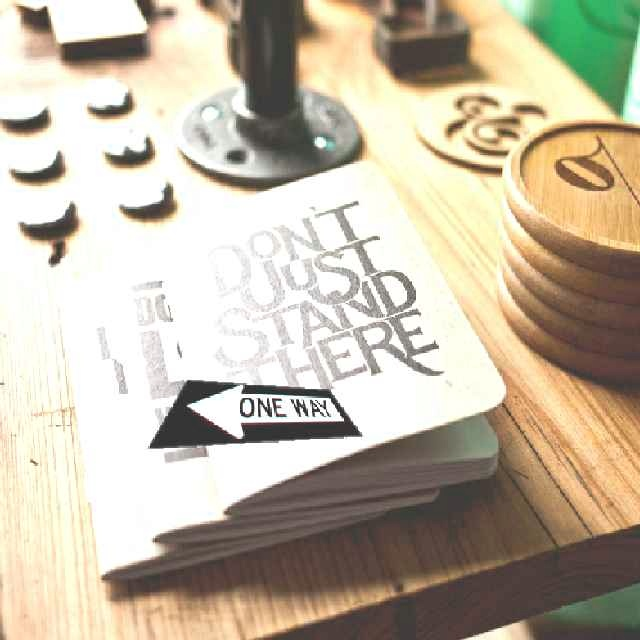ONE_WAY_ left: (145, 378, 362, 448)
